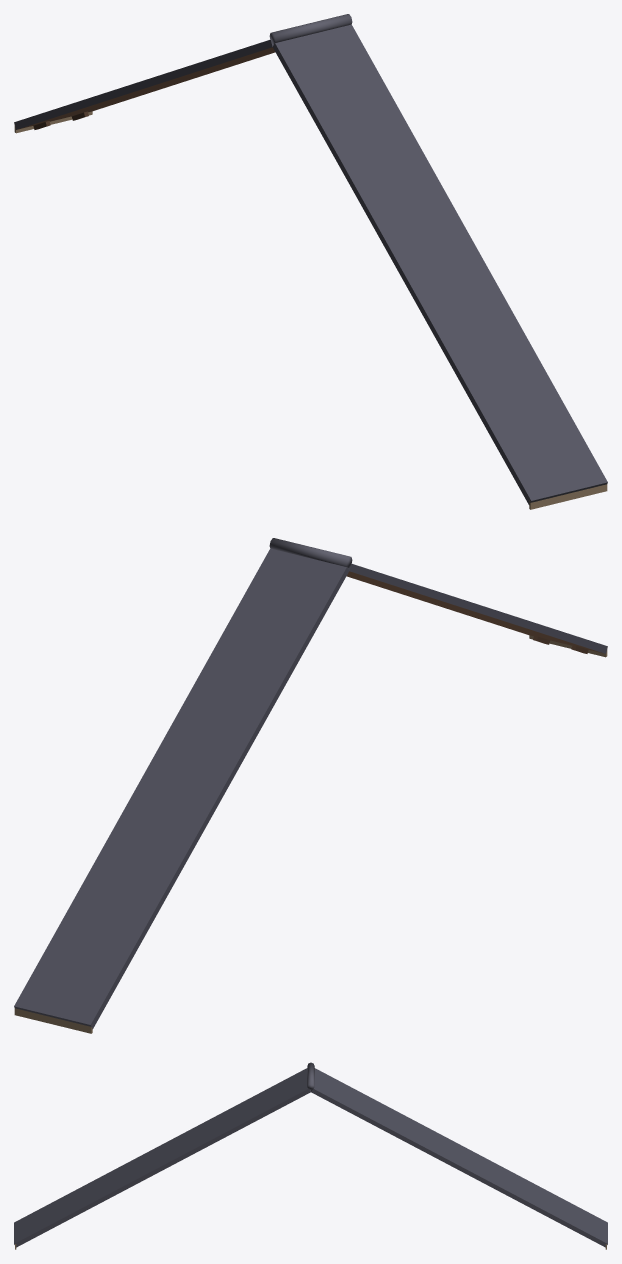
Rendered from kit_clapboard_slate_w11.glb.
The picture shows the model from 3 angles, top to bottom: view 1: azimuth 30°, elevation 25°; view 2: azimuth 150°, elevation 25°; view 3: azimuth 270°, elevation 25°; orthographic projection. The views are drawn at different scales.
Parts seen in each view (by area): view 1: kit_clapboard_slate_w11; view 2: kit_clapboard_slate_w11; view 3: kit_clapboard_slate_w11.
Part boxes in pixels (x1,y1,x2,y2): kit_clapboard_slate_w11: (14, 14, 607, 509); kit_clapboard_slate_w11: (14, 538, 607, 1033); kit_clapboard_slate_w11: (14, 1062, 607, 1249).
Size of the model in its own units: 1 by 3.6 by 11.69.
